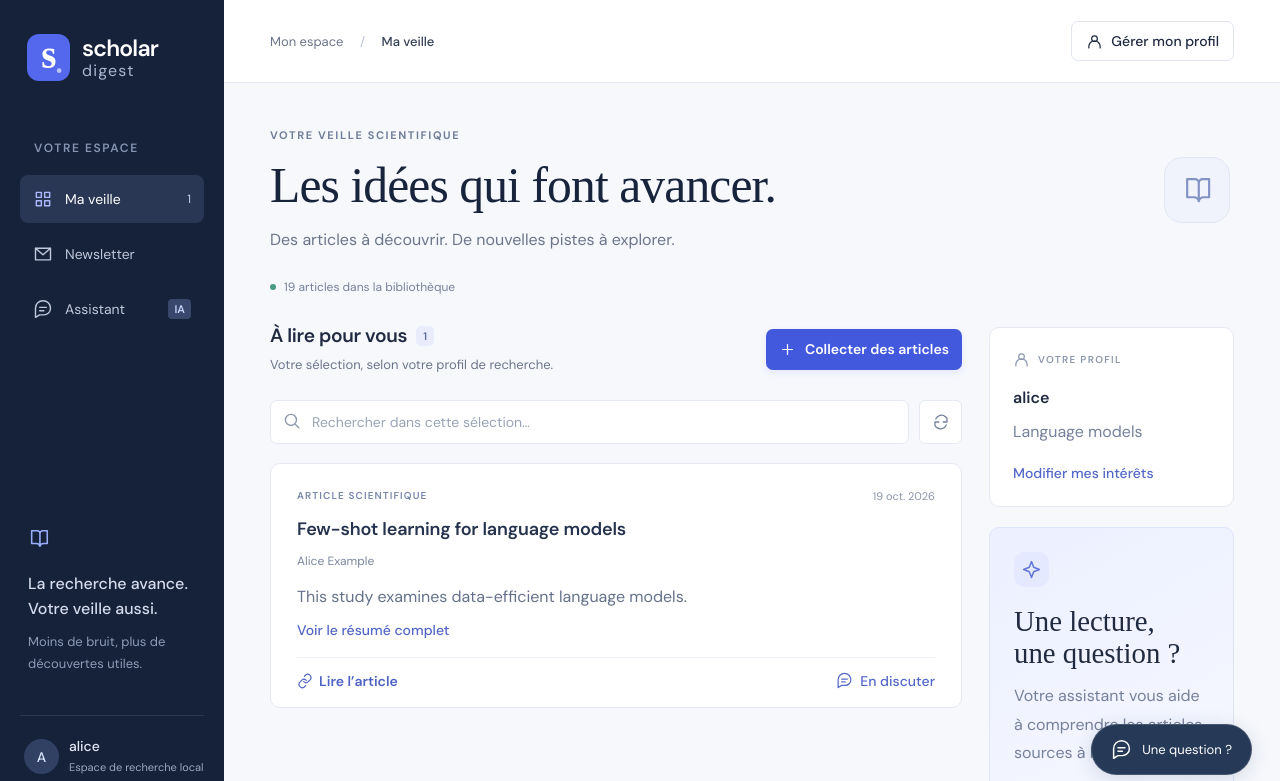
Test: research workspace › leaves the local profile without deleting it from the database
The image size is (1280, 781).
Expected: the heading "Few-shot learning for language models" is shown, [297,516,626,540]
Click the button "Gérer mon profil" at (1153, 41), box [1071,21,1234,61]
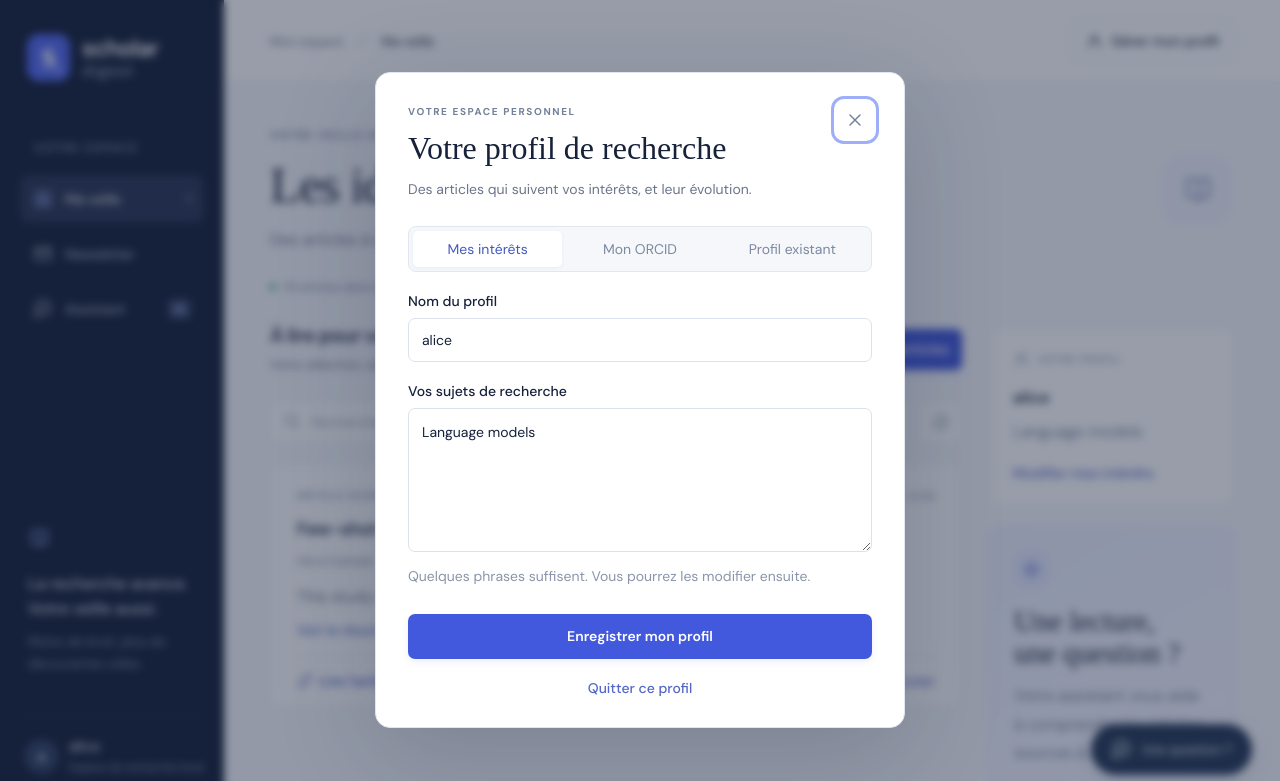
Click the button "Quitter ce profil" at (640, 688), box [588,679,692,697]
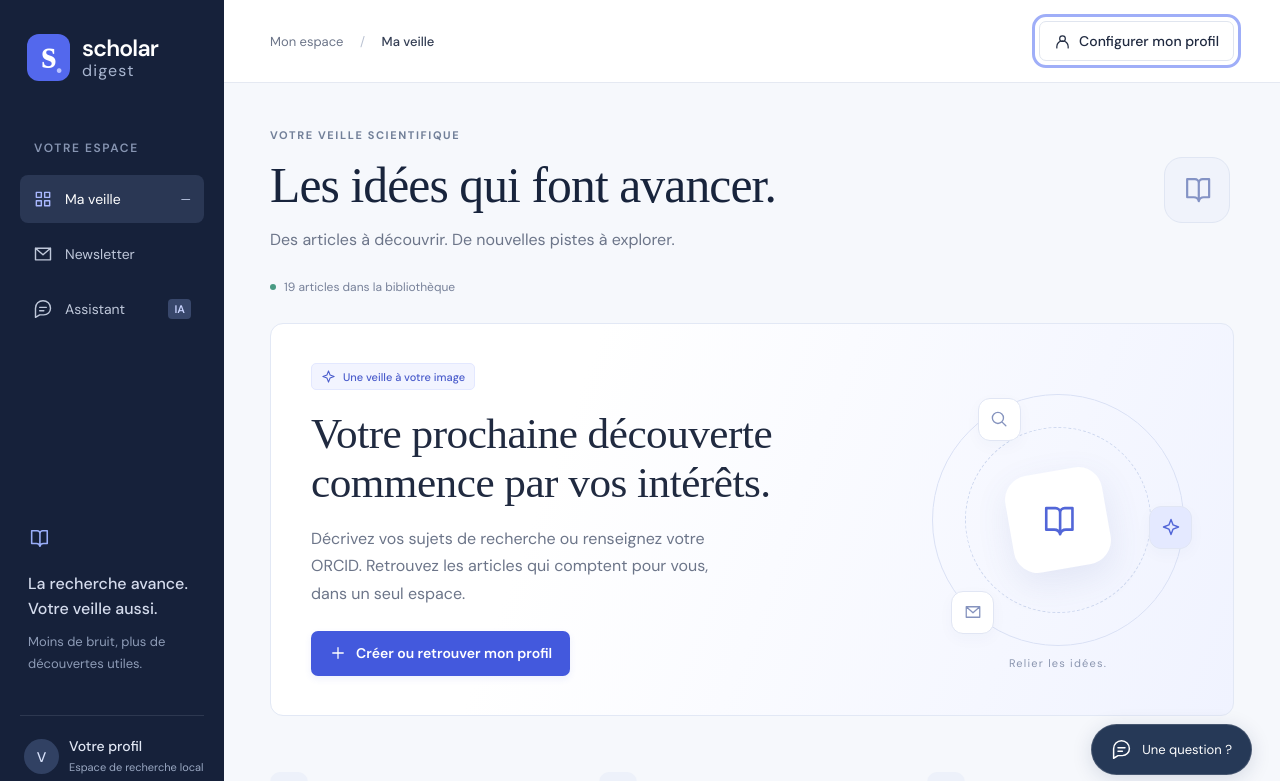
Result: the button "Créer ou retrouver mon profil" is shown at [311,631,570,676]
